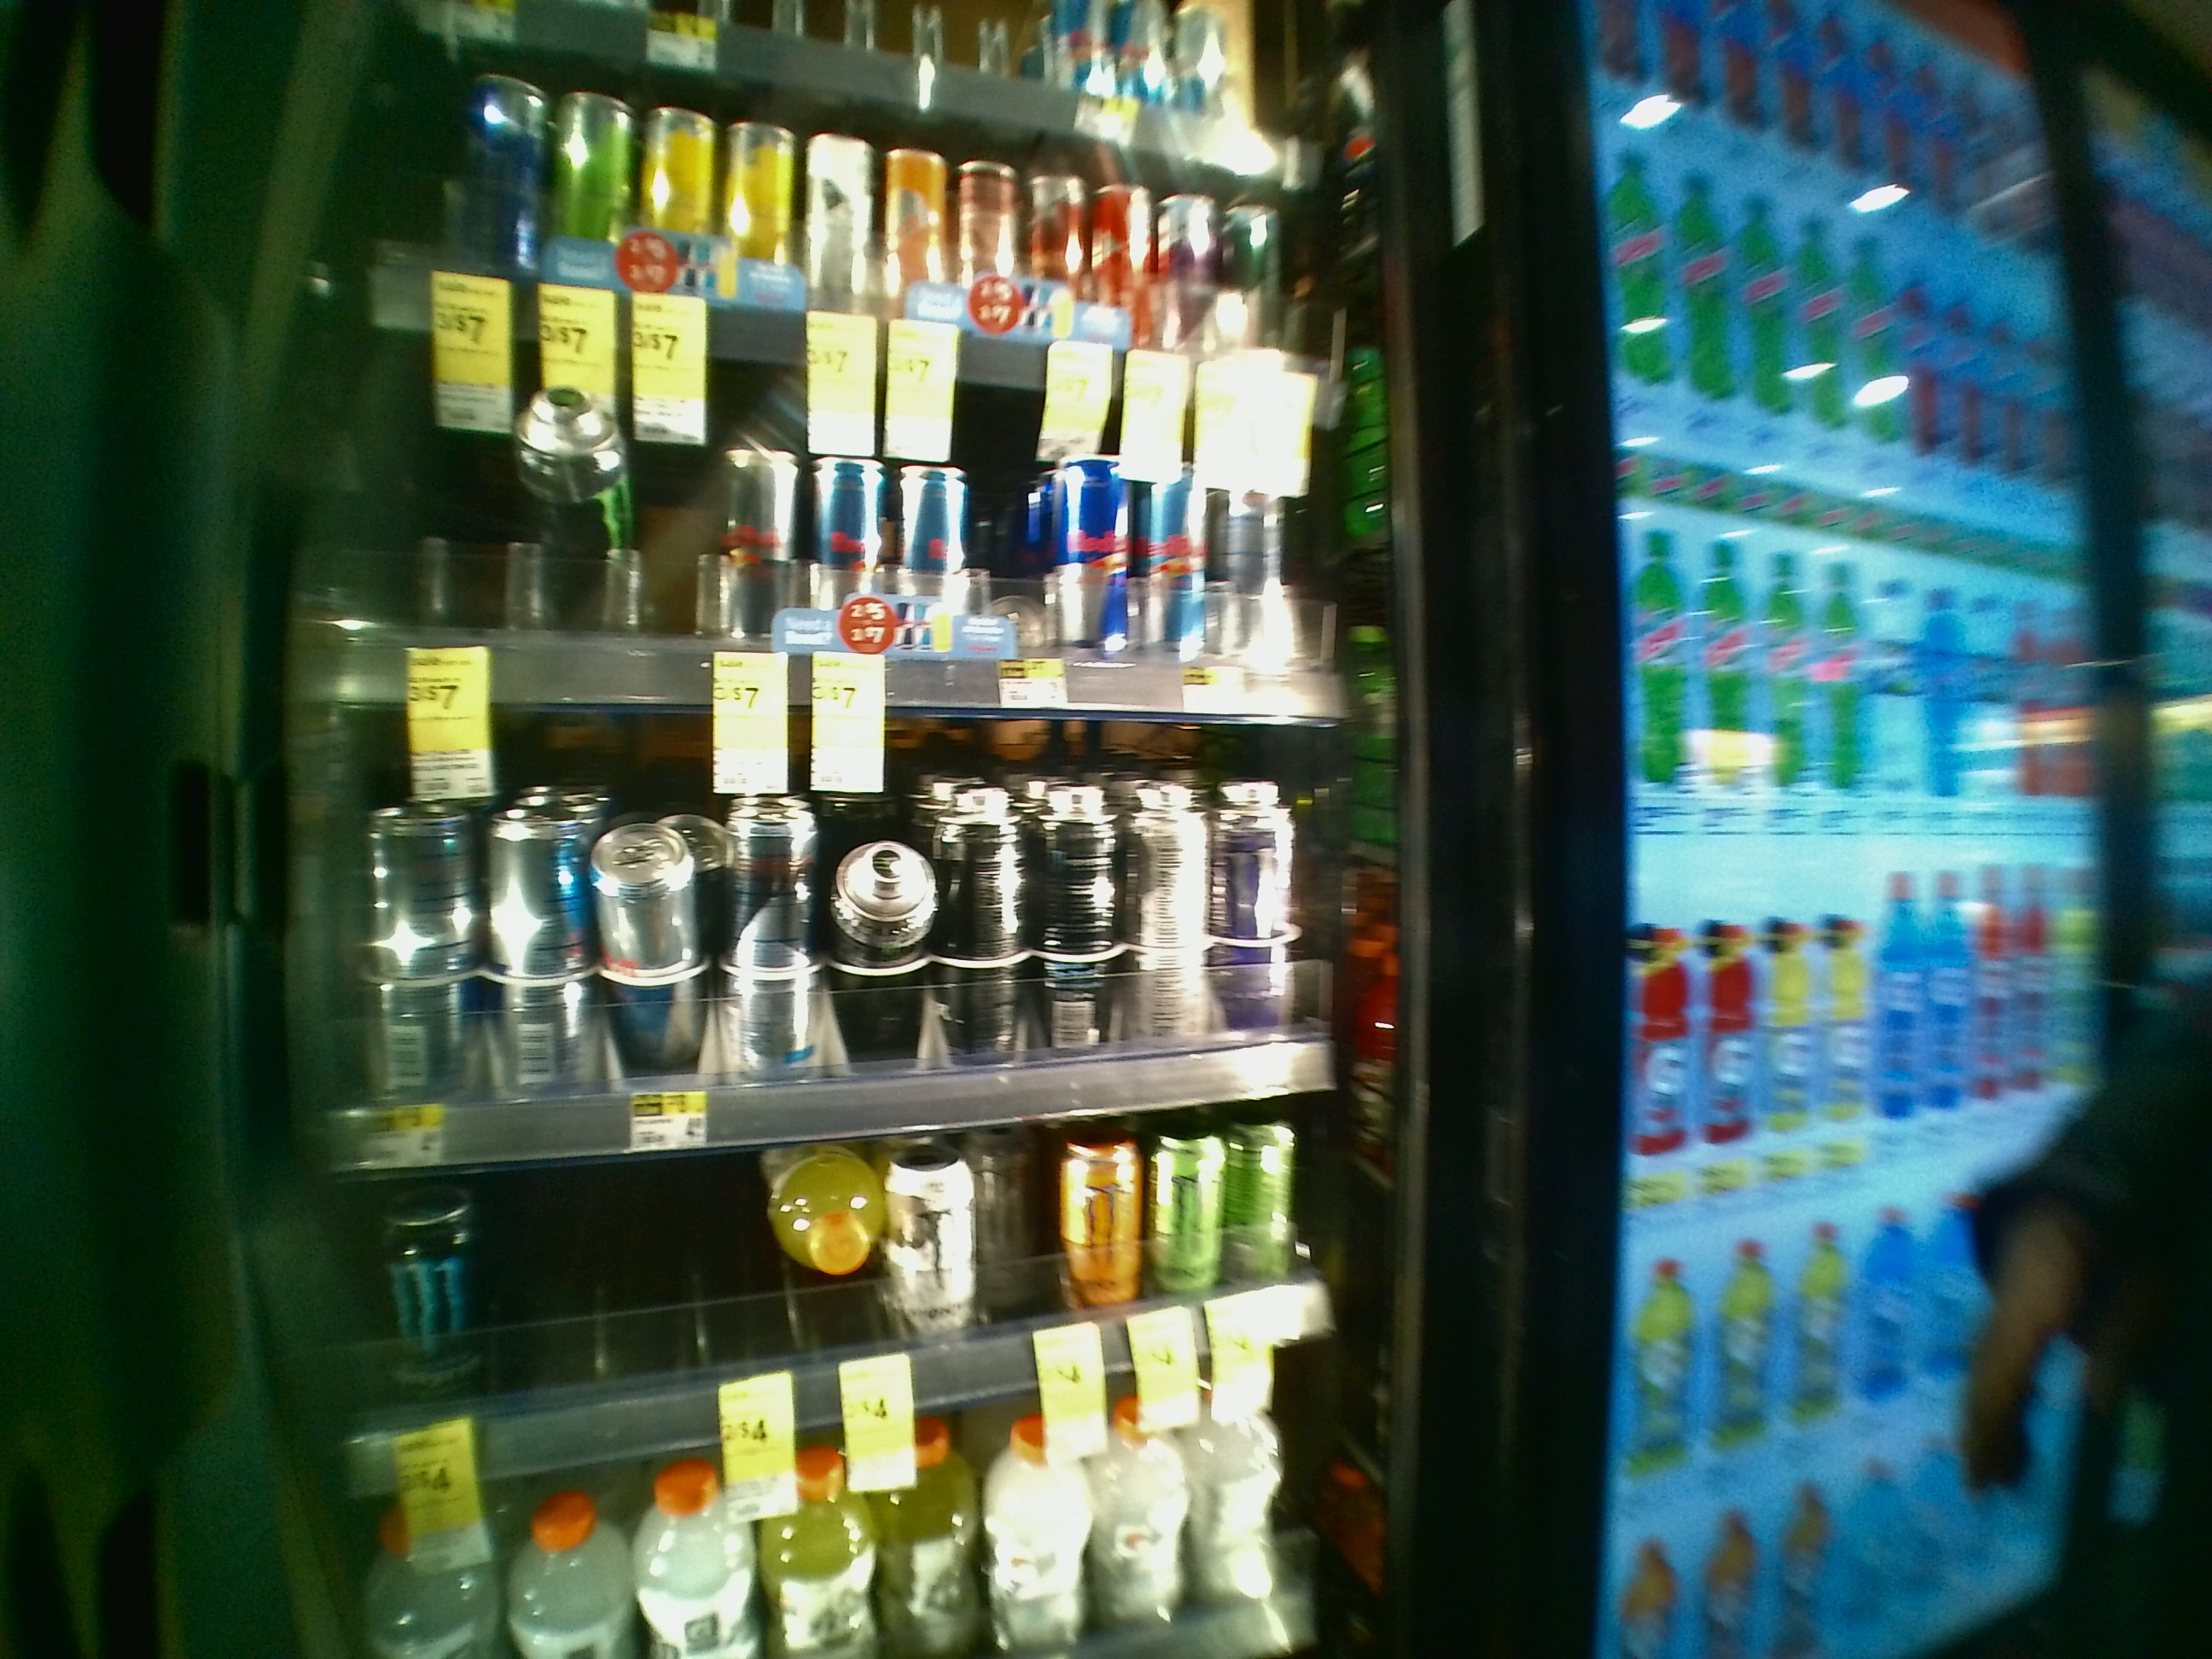shelf: (305, 695, 1425, 1121)
